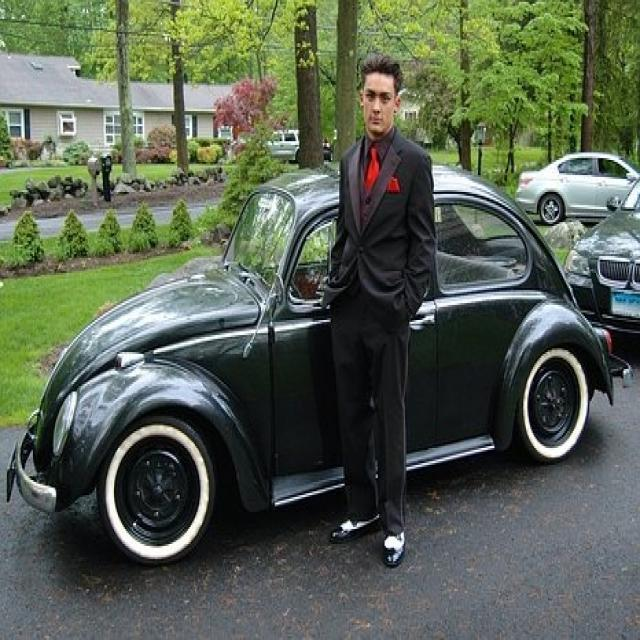cars: (39, 158, 630, 546)
